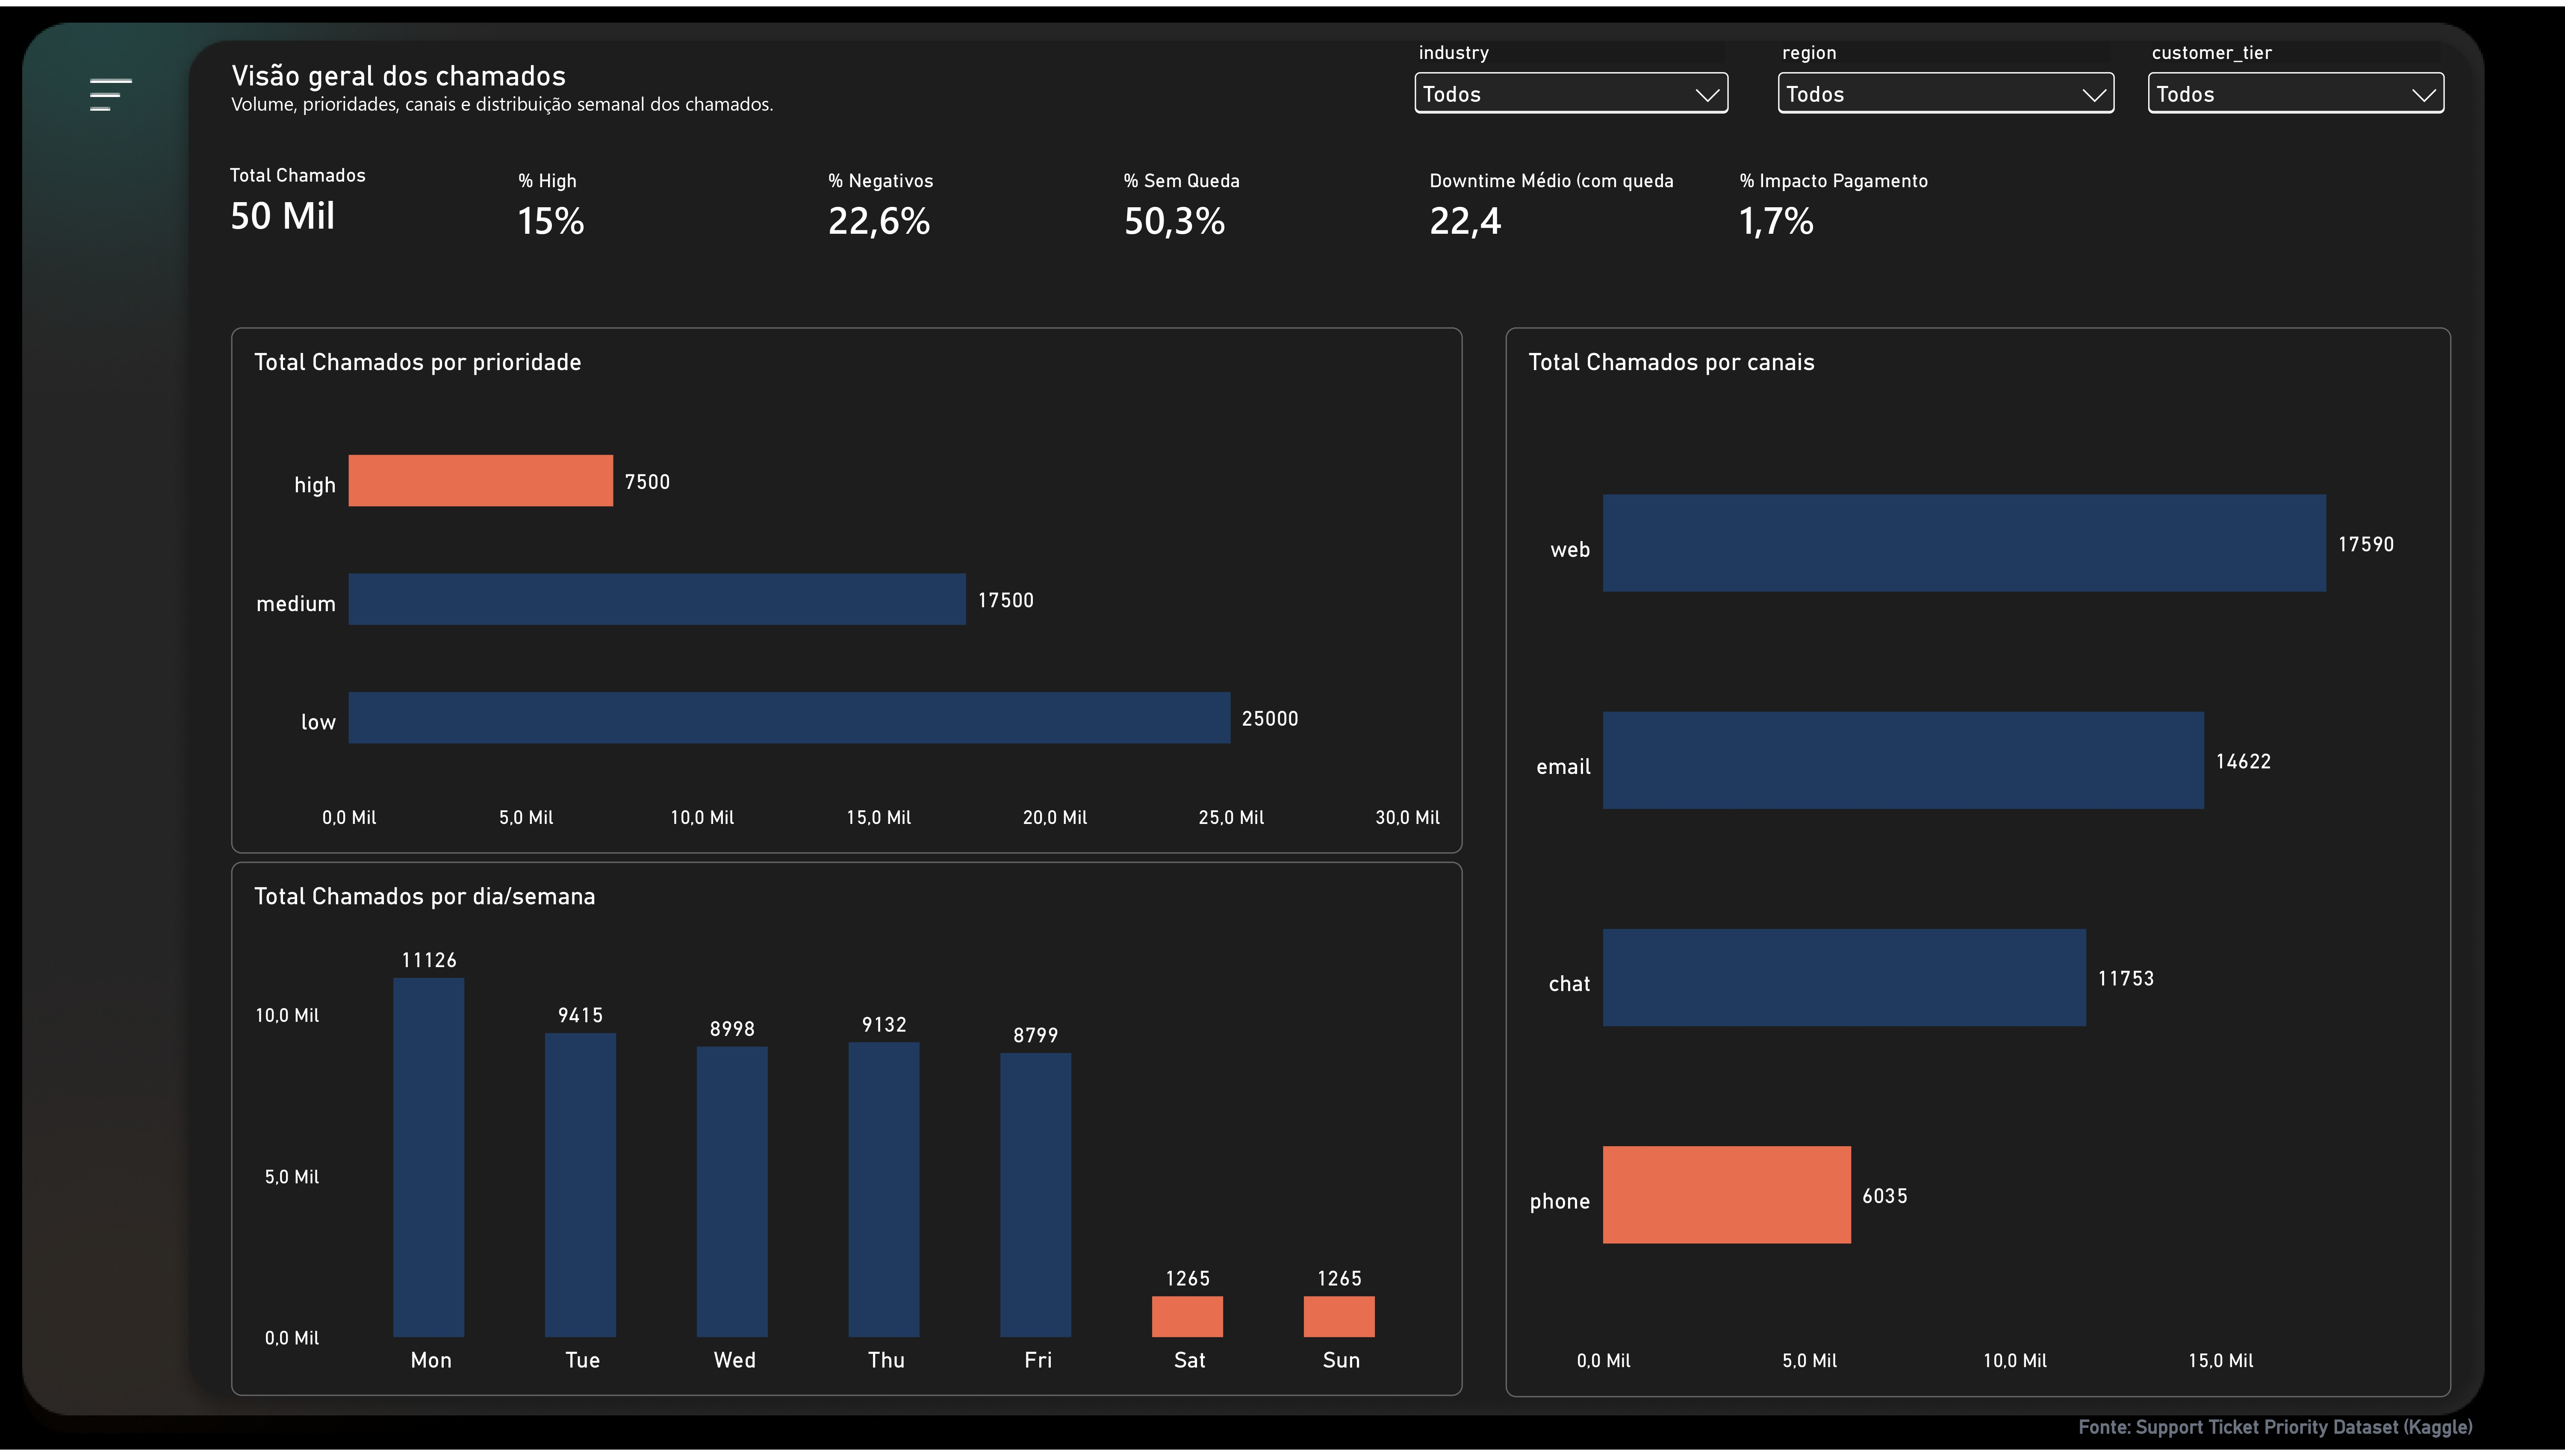

Layout of this report page (visuals, bound fields, positions):
{"tool":"powerbi","page":{"name":"Visão geral","canvas":[1920,1080],"ordinal":0},"visuals":[{"type":"cardVisual","fields":{"Data":["Medidas.Total Chamados"]},"box":[156.2,75.8,215,140],"z":0},{"type":"cardVisual","fields":{"Data":["Medidas.% High"]},"box":[371.6,80.4,215,140],"z":1000},{"type":"cardVisual","fields":{"Data":["Medidas.% Negativos"]},"box":[603.7,80.4,215,140],"z":2000},{"type":"cardVisual","fields":{"Data":["Medidas.% Sem Queda"]},"box":[825.2,80.4,215,140],"z":3000},{"type":"cardVisual","fields":{"Data":["Medidas.Downtime Médio (com queda)"]},"box":[1054.2,80.4,215,140],"z":4000},{"type":"cardVisual","fields":{"Data":["Medidas.% Impacto Pagamento"]},"box":[1286.3,80.4,215,140],"z":5000},{"type":"clusteredBarChart","title":"Total Chamados por prioridade","fields":{"Category":["Support_tickets.priority"],"Y":["Medidas.Total Chamados"]},"box":[172.9,239.7,922.2,394.4],"z":6000},{"type":"clusteredBarChart","title":"Total Chamados por canais","fields":{"Category":["Support_tickets.booking_channel"],"Y":["Medidas.Total Chamados"]},"box":[1127,239.7,708.4,800.9],"z":7000},{"type":"lineStackedColumnComboChart","title":"Total Chamados por dia/semana","fields":{"Category":["Support_tickets.day_of_week"],"Y":["Medidas.Total Chamados"]},"box":[172.9,640.1,922.2,400.4],"z":8000},{"type":"slicer","fields":{"Values":["Support_tickets.customer_tier"]},"box":[1603.3,25.8,232.1,91],"z":9000},{"type":"slicer","fields":{"Values":["Support_tickets.industry"]},"box":[1054.2,25.8,244.8,70.4],"z":10000},{"type":"slicer","fields":{"Values":["Support_tickets.region"]},"box":[1325.7,25.8,262.4,91],"z":11000},{"type":"textbox","box":[1556,1052.7,364,27.3],"z":12000},{"type":"actionButton","box":[45.5,31.9,69.8,66.7],"z":12001},{"type":"textbox","box":[172.9,39.4,538.5,56.1],"z":12002}]}

Visuals, with their boxes in screenshot pixels (x1, y1, x2, y2), scaled from the page's 1920x1080 canvas onto the 2565x1456 screenshot:
cardVisual - Medidas.Total Chamados: (209,102,496,291)
cardVisual - Medidas.% High: (496,109,784,297)
cardVisual - Medidas.% Negativos: (807,109,1094,297)
cardVisual - Medidas.% Sem Queda: (1103,109,1390,297)
cardVisual - Medidas.Downtime Médio (com queda): (1408,109,1695,297)
cardVisual - Medidas.% Impacto Pagamento: (1719,109,2006,297)
"Total Chamados por prioridade" clusteredBarChart: (231,323,1463,855)
"Total Chamados por canais" clusteredBarChart: (1506,323,2452,1403)
"Total Chamados por dia/semana" lineStackedColumnComboChart: (231,863,1463,1403)
slicer - Support_tickets.customer_tier: (2142,35,2452,157)
slicer - Support_tickets.industry: (1408,35,1735,129)
slicer - Support_tickets.region: (1771,35,2122,157)
textbox: (2079,1419,2565,1456)
actionButton: (61,43,154,133)
textbox: (231,53,950,129)
